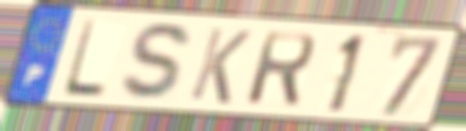1: (327, 32, 369, 114)
7: (382, 31, 446, 119)
K: (186, 25, 255, 108)
L: (59, 17, 110, 101)
R: (243, 30, 318, 110)
S: (117, 20, 196, 105)
